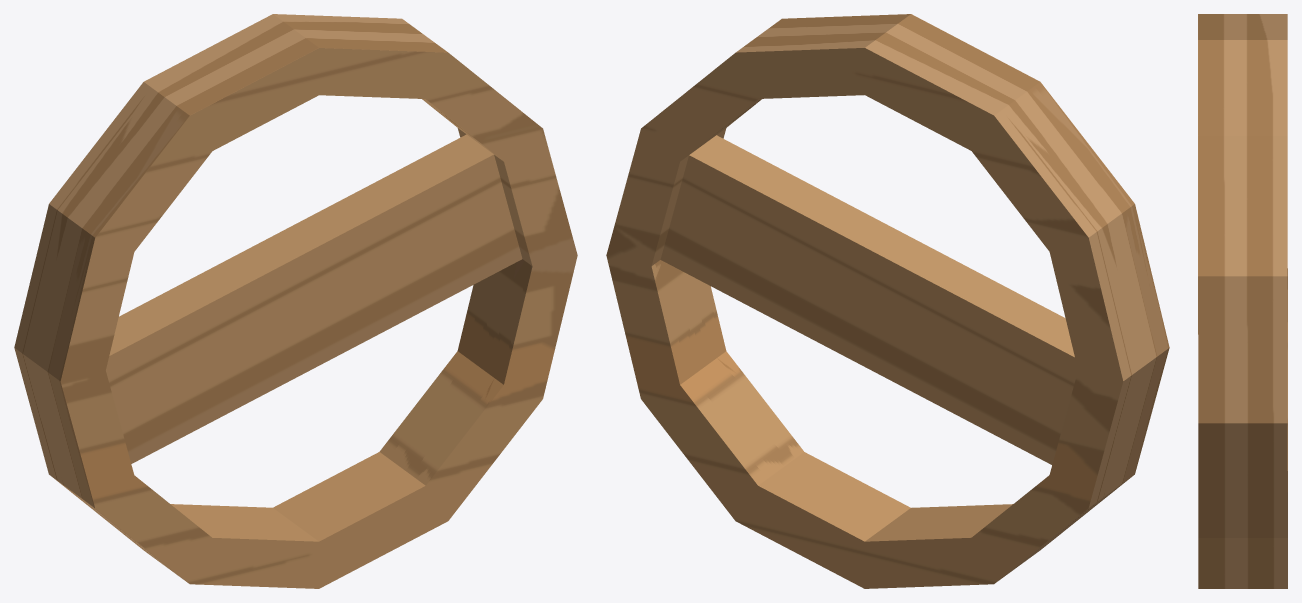
The model's file is log_car_steering_wheel.fbx.
3 views of the same model, side by side, from view 1: azimuth 30°, elevation 25°; view 2: azimuth 150°, elevation 25°; view 3: azimuth 270°, elevation 25° (orthographic). The views are drawn at different scales.
Parts seen in each view (by area): view 1: SteeringWheel; view 2: SteeringWheel; view 3: SteeringWheel.
Part boxes in pixels (box(x1,y1,x2,y2)): SteeringWheel: box(14, 14, 577, 588); SteeringWheel: box(606, 14, 1169, 588); SteeringWheel: box(1198, 14, 1287, 588).
Bounding box in the file's own units: 43.92 × 43.93 × 6.84.
Materials: 1 (1 with a texture image).
